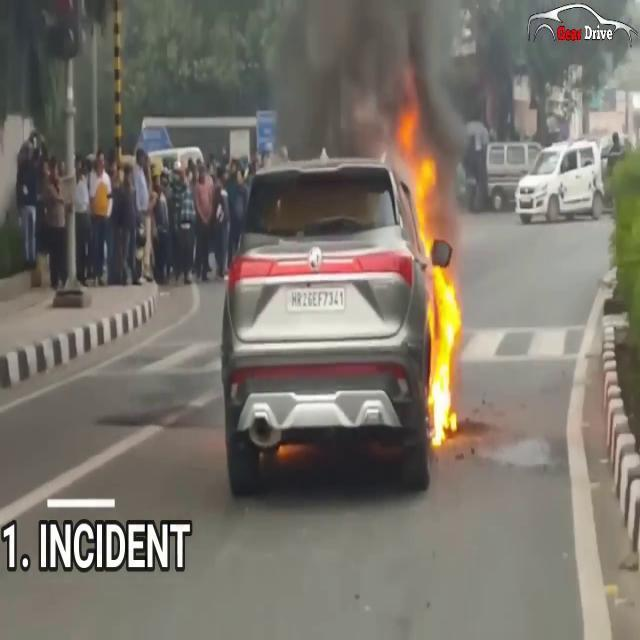Fire: (408, 138, 464, 444)
Smoke: (260, 0, 470, 154)
